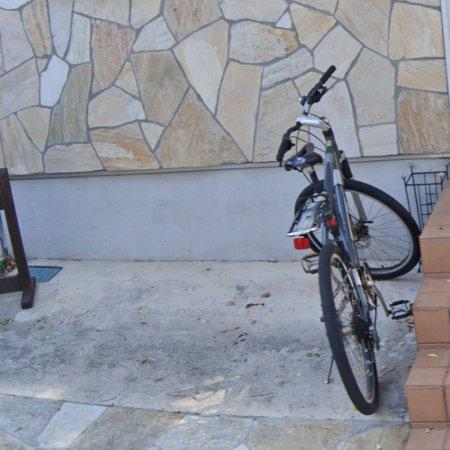bicycles: (277, 66, 421, 415)
